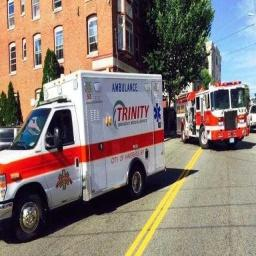Ambulance: (0, 70, 164, 240), (176, 81, 248, 148)
